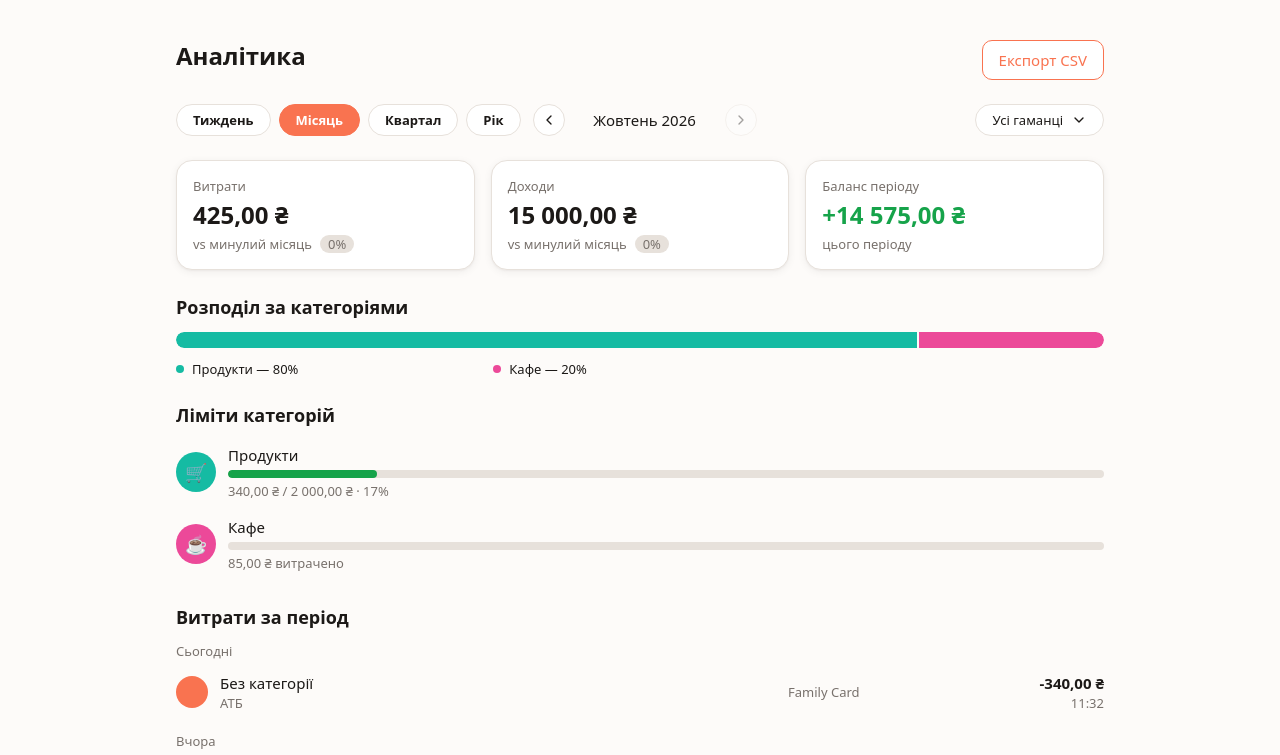
AnalyticsPage › says when the export failed
The image size is (1280, 755).
Click the button "Експорт CSV" at (1043, 60), box [982,40,1104,80]
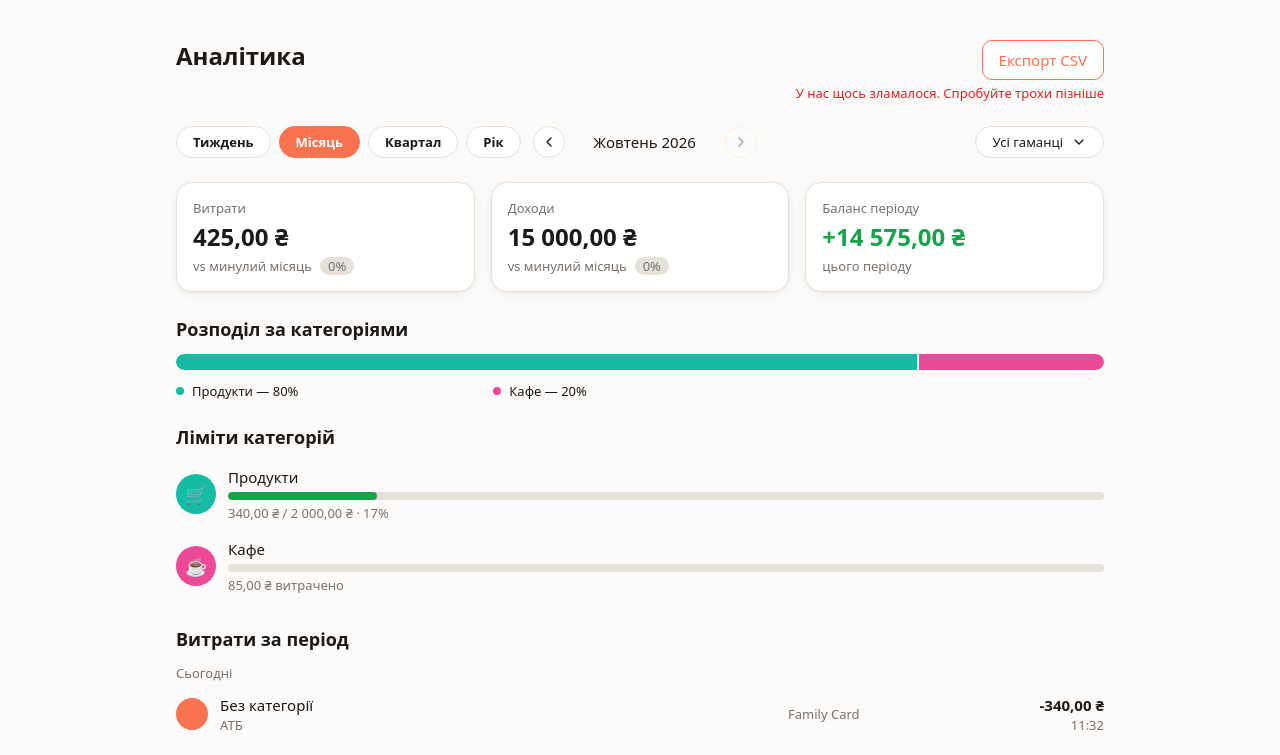
Result: the message "У нас щось зламалося. Спробуйте трохи пізніше" is shown at [796,84,1104,102]
